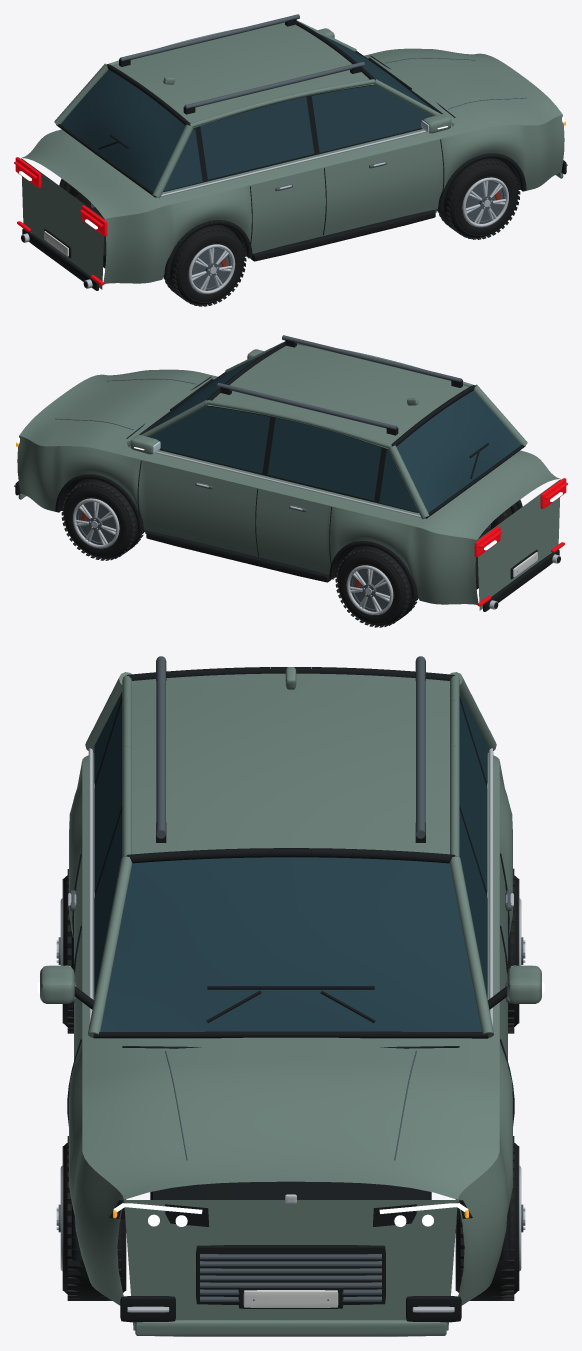
File: crossover.glb
3 renders of one model, top to bottom at view 1: azimuth 30°, elevation 25°; view 2: azimuth 150°, elevation 25°; view 3: azimuth 270°, elevation 25°, orthographic. The views are drawn at different scales.
Visible parts, largest first — view 1: Paint / body colour, Smoked automotive glass, Satin black trim, Tyre rubber, Graphite alloy, Satin aluminium, Tyre tread edges, Rear light lenses, Panel gaps; view 2: Paint / body colour, Smoked automotive glass, Satin black trim, Tyre rubber, Graphite alloy, Satin aluminium, Tyre tread edges, Rear light lenses, Panel gaps; view 3: Paint / body colour, Smoked automotive glass, Satin black trim, Graphite alloy, Satin aluminium, Tyre rubber, Tyre tread edges, Plain number plates, LED daylight, Panel gaps.
Part boxes in pixels (x1,y1,x2,y2): Paint / body colour: (21,20,564,289); Smoked automotive glass: (61,34,434,191); Satin black trim: (21,18,566,290); Tyre rubber: (69,158,518,304); Graphite alloy: (46,14,526,290); Satin aluminium: (21,124,567,293); Tyre tread edges: (73,161,520,306); Rear light lenses: (14,157,107,285); Panel gaps: (250,55,455,254); Paint / body colour: (17,341,560,610); Smoked automotive glass: (147,354,520,512); Satin black trim: (15,339,560,611); Tyre rubber: (63,479,511,625); Graphite alloy: (55,335,535,611); Satin aluminium: (14,445,560,614); Tyre tread edges: (61,479,507,627); Rear light lenses: (474,478,567,606); Panel gaps: (126,376,331,575); Paint / body colour: (40,667,541,1336); Smoked automotive glass: (94,691,487,1031); Satin black trim: (71,661,510,1322); Graphite alloy: (58,656,523,1301); Satin aluminium: (56,748,525,1312); Tyre rubber: (64,875,517,1300); Tyre tread edges: (62,868,519,1300); Plain number plates: (243,1290,338,1307); LED daylight: (37,982,544,1226); Panel gaps: (67,853,514,1125).
Bounding box in the file's own units: 4.72 × 1.75 × 2.18.
